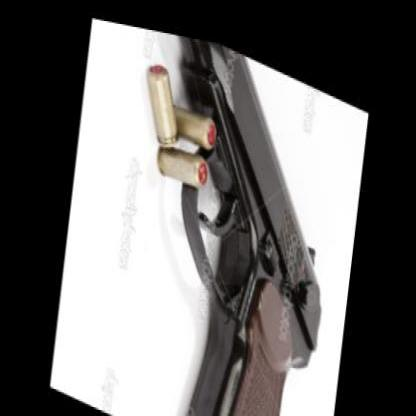pistol: (101, 15, 353, 413)
